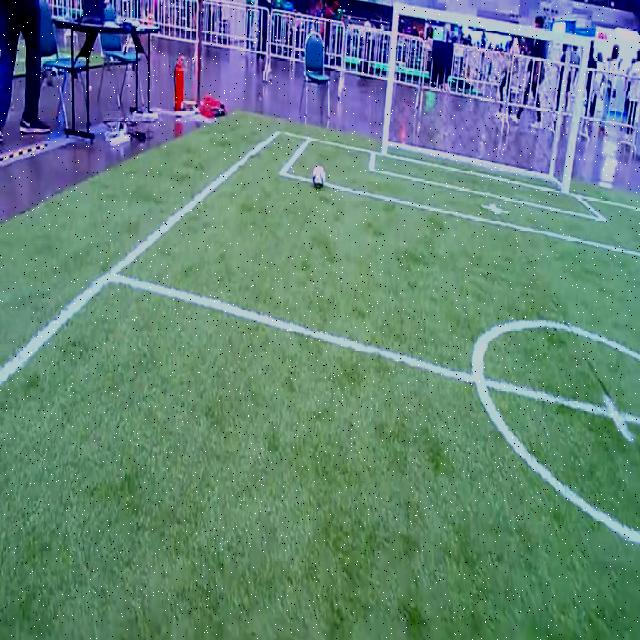ball: (313, 166, 326, 188)
